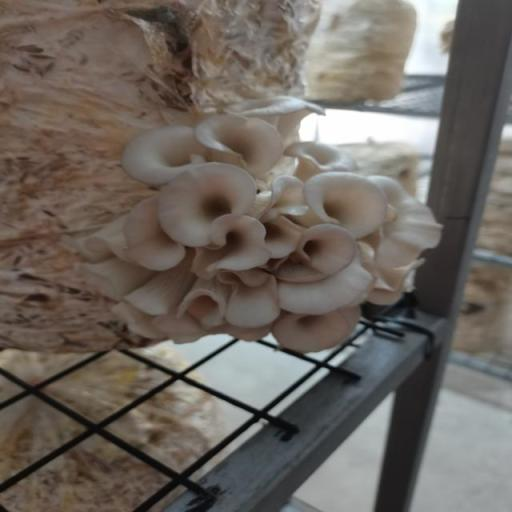White Oyster Mushroom: (88, 104, 450, 357)
